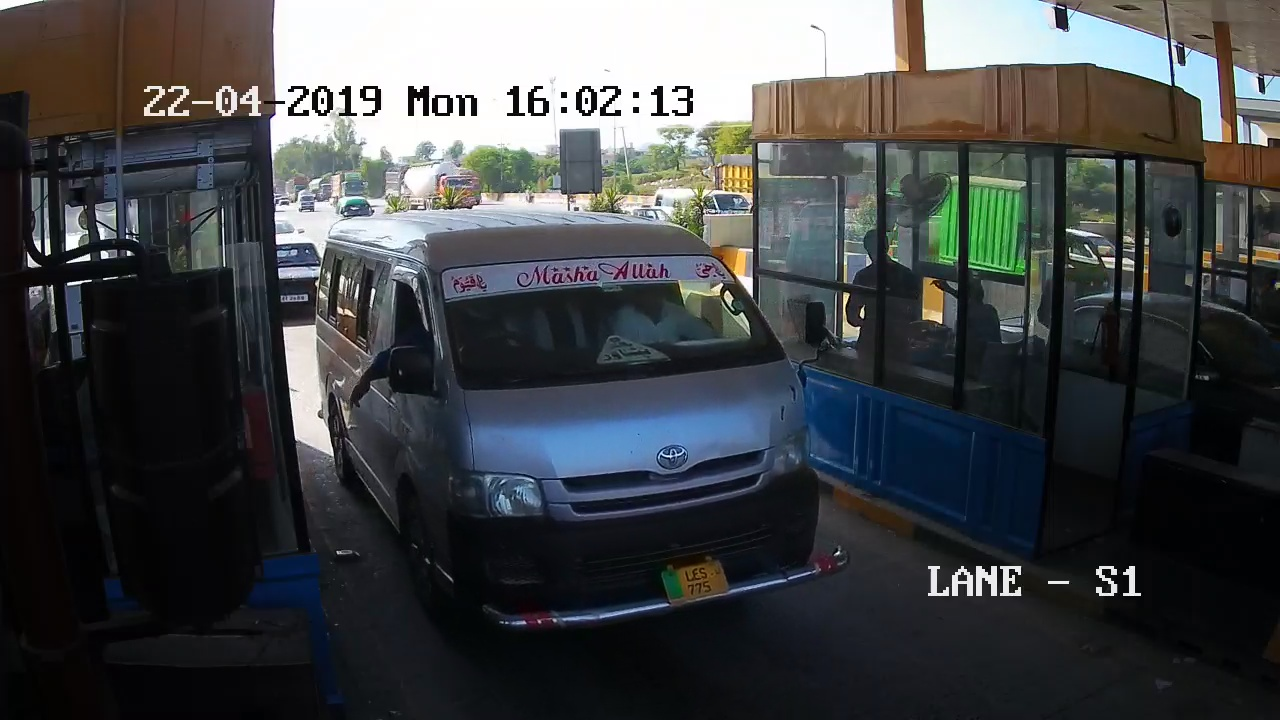car: (321, 215, 871, 667)
